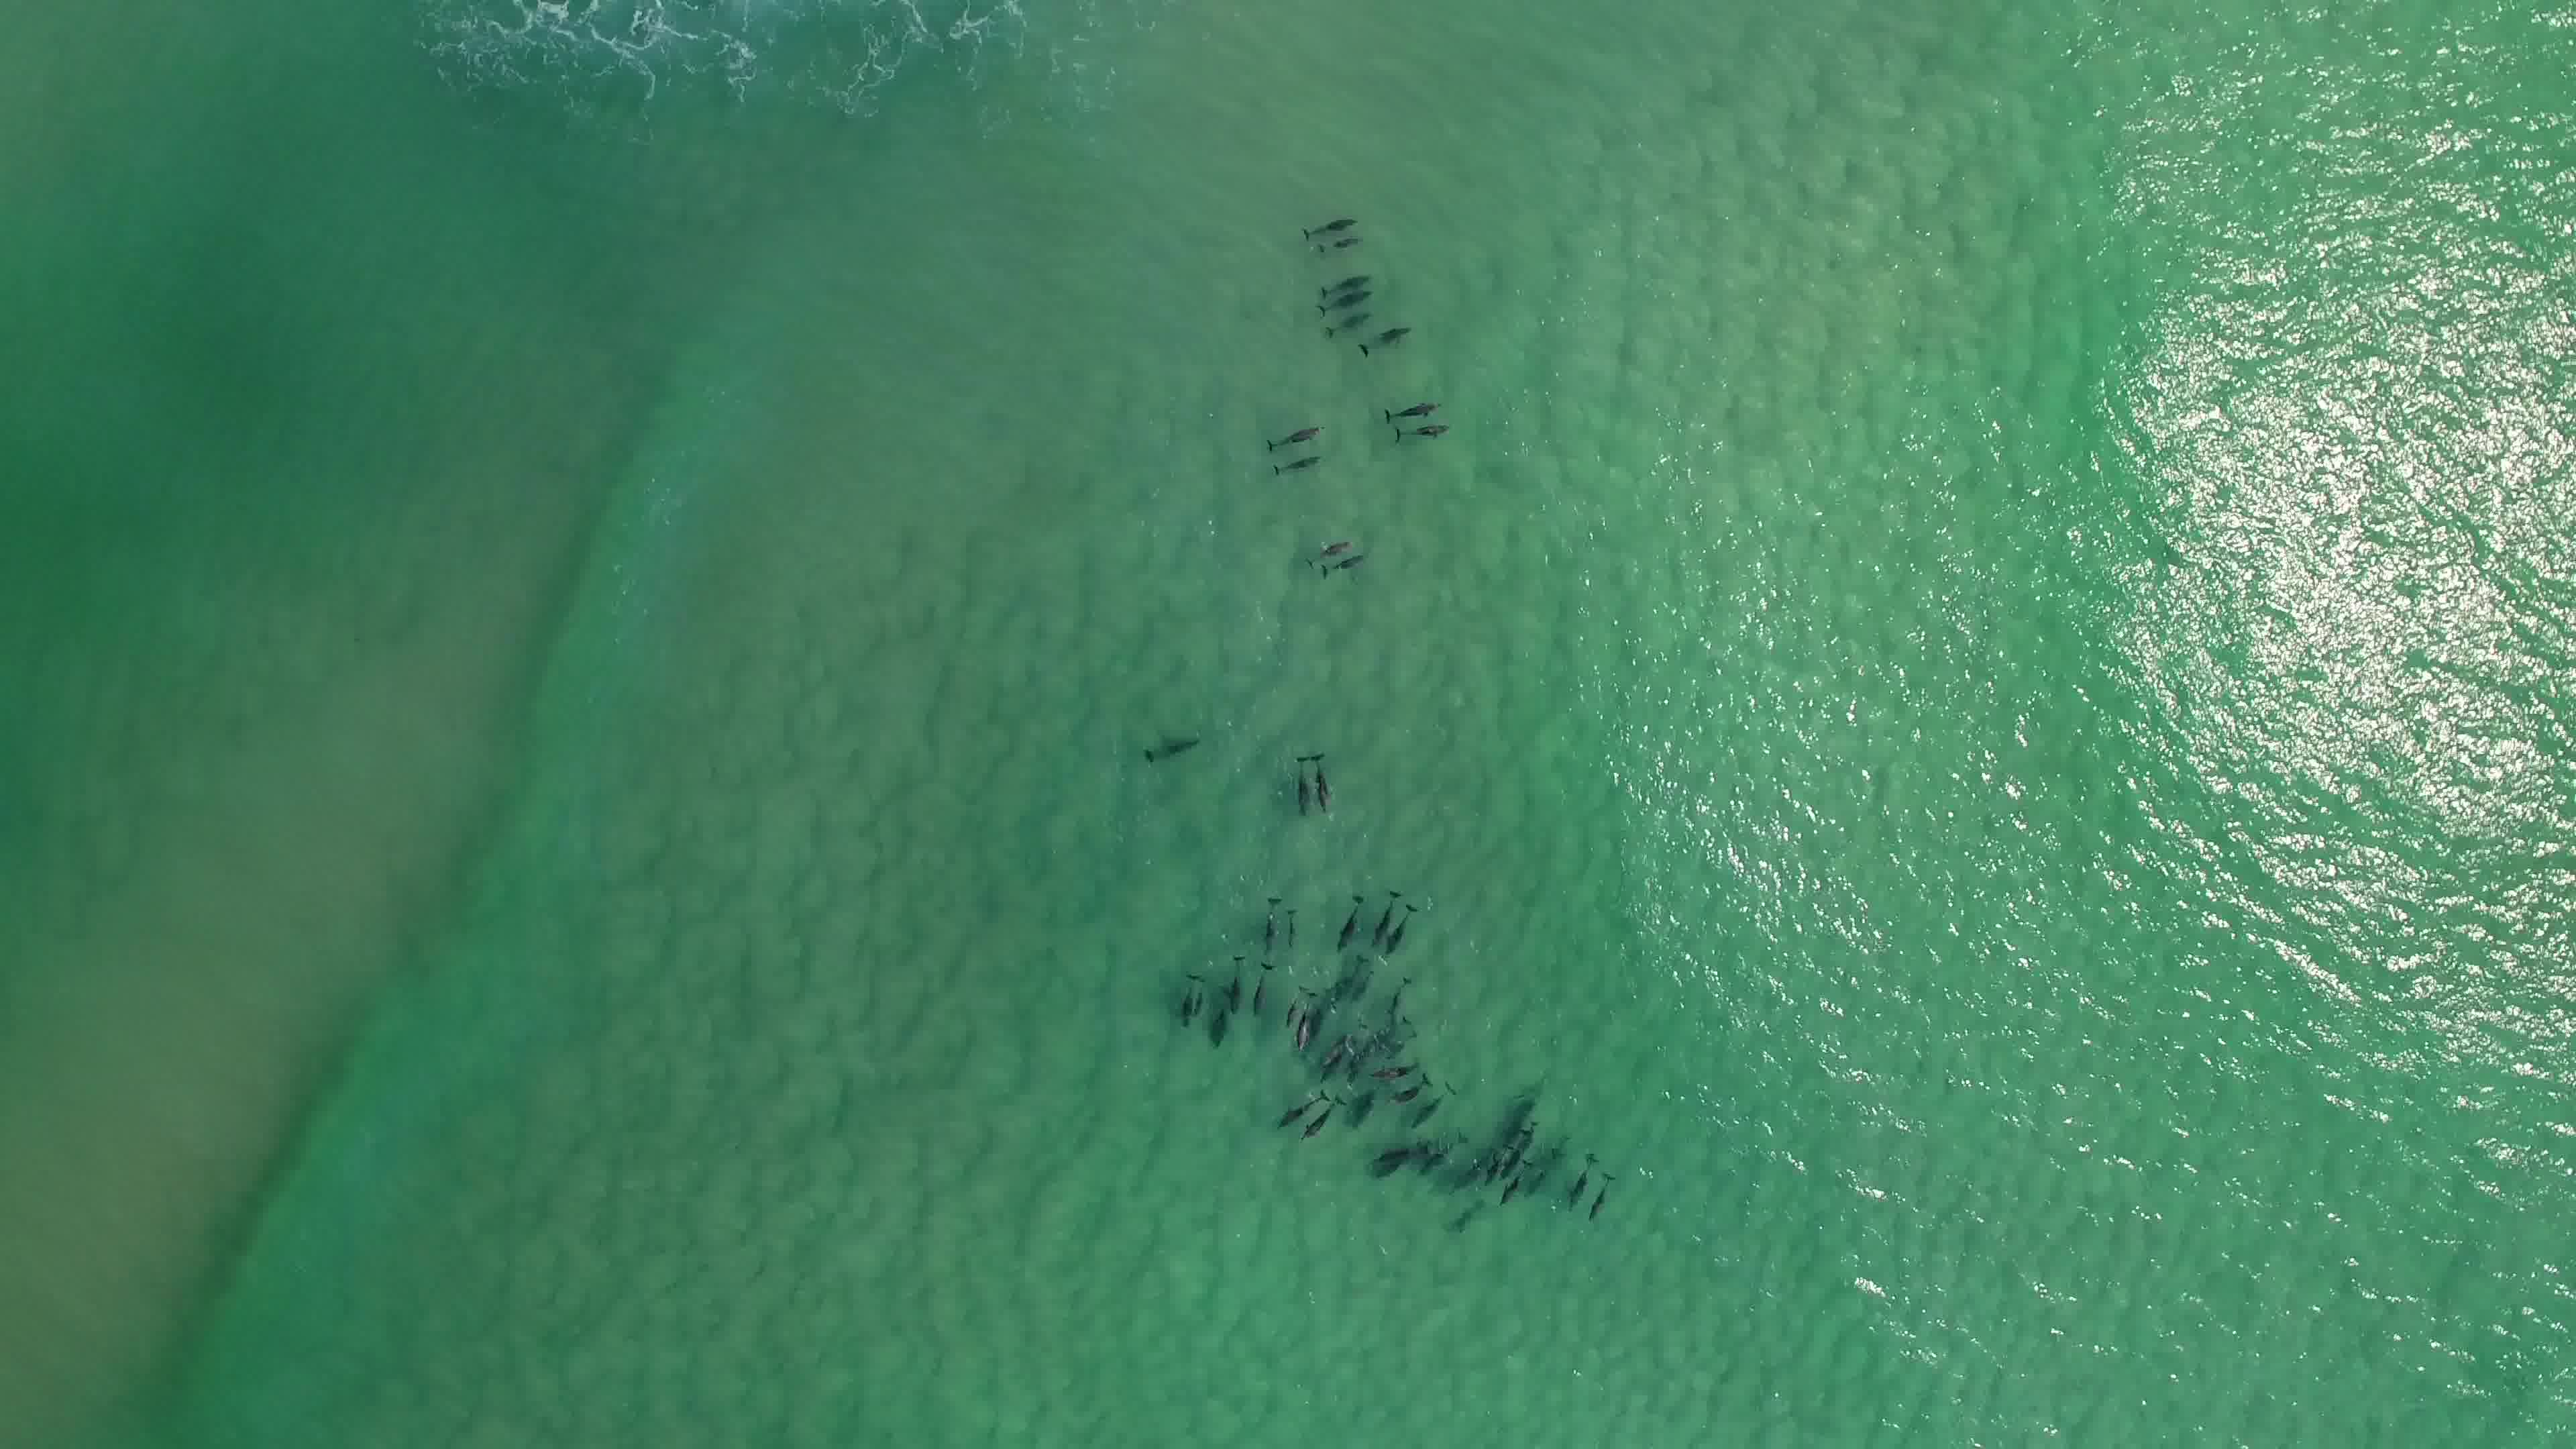dolphin: (1304, 745, 1343, 823), (1134, 722, 1214, 757), (1313, 1026, 1361, 1083), (1297, 1086, 1345, 1141), (1562, 1146, 1599, 1210), (1339, 318, 1419, 347), (1327, 885, 1362, 947), (1426, 1132, 1479, 1173), (1171, 970, 1205, 1031), (1253, 892, 1288, 950), (1272, 1083, 1315, 1131), (1265, 442, 1322, 478), (1284, 750, 1313, 821), (1392, 890, 1417, 970), (1380, 386, 1445, 416), (1246, 952, 1272, 1024), (1414, 1085, 1458, 1127), (1384, 1072, 1445, 1102), (1290, 211, 1361, 235), (1371, 1054, 1433, 1083), (1254, 425, 1329, 448), (1316, 547, 1376, 575), (1371, 1143, 1424, 1175), (1385, 421, 1463, 442), (1587, 1169, 1615, 1223), (1302, 529, 1361, 554), (1451, 1196, 1488, 1235), (1502, 1166, 1536, 1207), (1224, 950, 1246, 1014), (1380, 883, 1398, 957), (1306, 269, 1378, 287), (1307, 230, 1369, 249), (1311, 308, 1371, 327), (1311, 288, 1376, 306), (1297, 989, 1315, 1053), (1513, 1122, 1543, 1159), (1284, 899, 1302, 959), (1283, 985, 1302, 1033)
